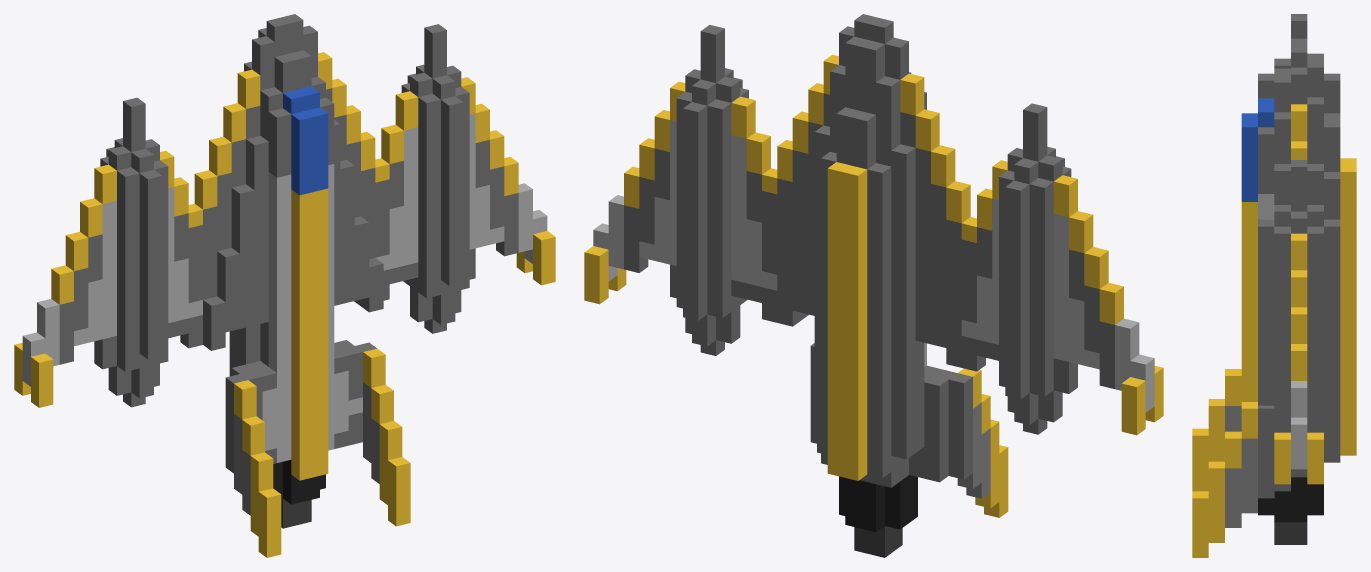
File: VoidEdge V2-3.obj
The picture shows the model from 3 angles, left to right: view 1: azimuth 30°, elevation 25°; view 2: azimuth 150°, elevation 25°; view 3: azimuth 270°, elevation 25°; orthographic projection. The views are drawn at different scales.
Size of the model in its own units: 3.6 by 3.3 by 1.
Materials: 1 (1 with a texture image).
